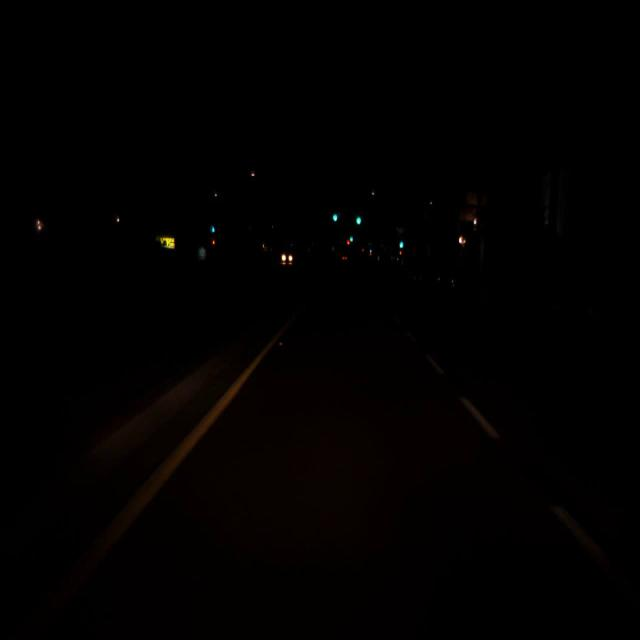go: (355, 212, 361, 224), (331, 210, 338, 220), (398, 238, 404, 246), (211, 222, 215, 232), (349, 234, 353, 242)
go traffic light: (355, 212, 361, 224), (331, 210, 338, 220), (398, 238, 404, 246), (211, 222, 215, 232), (349, 234, 353, 242)
stop: (346, 239, 350, 249)
stop traffic light: (346, 239, 350, 249)
